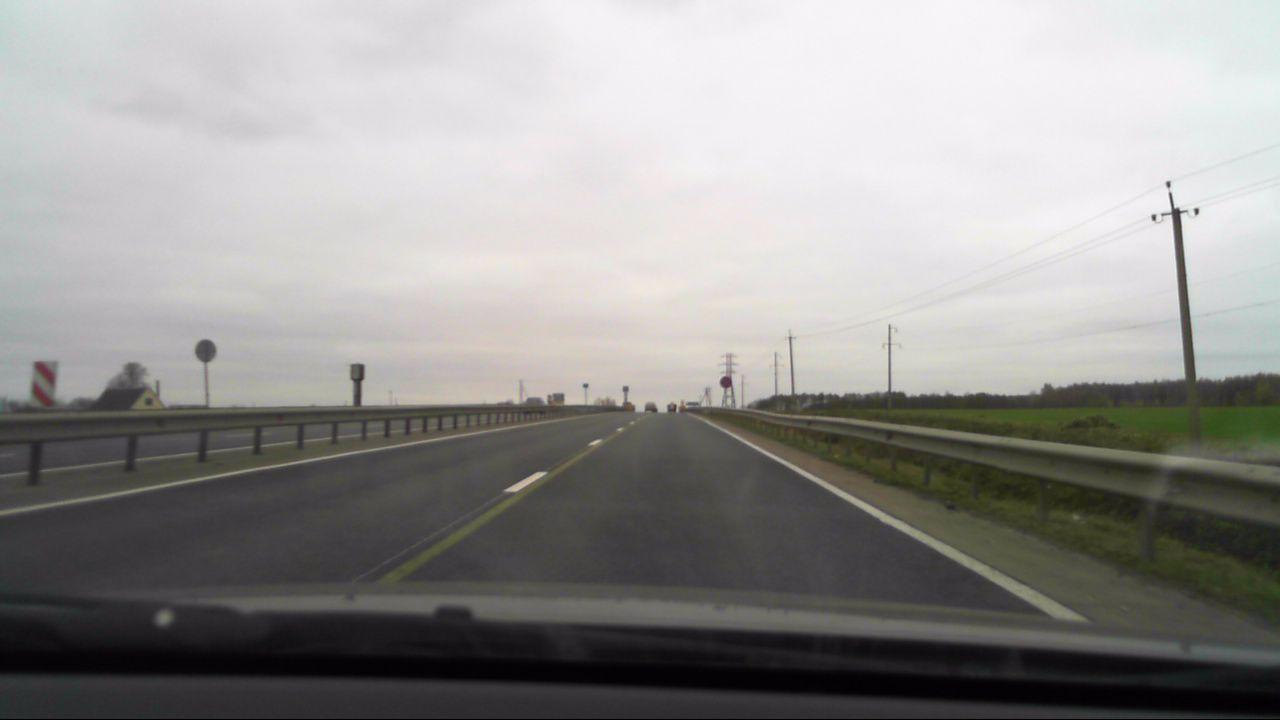No Parking: (718, 372, 734, 389)
